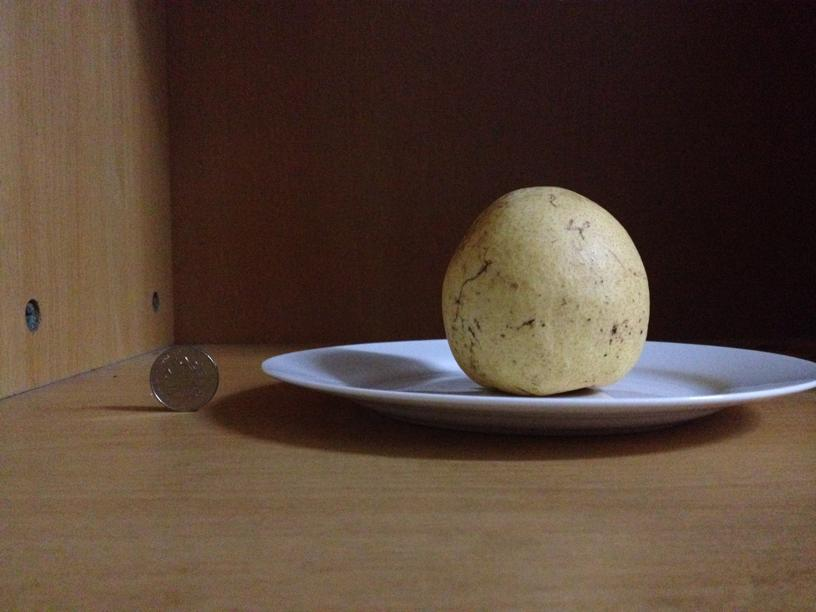coin: (143, 342, 222, 411)
pear: (444, 186, 650, 393)
